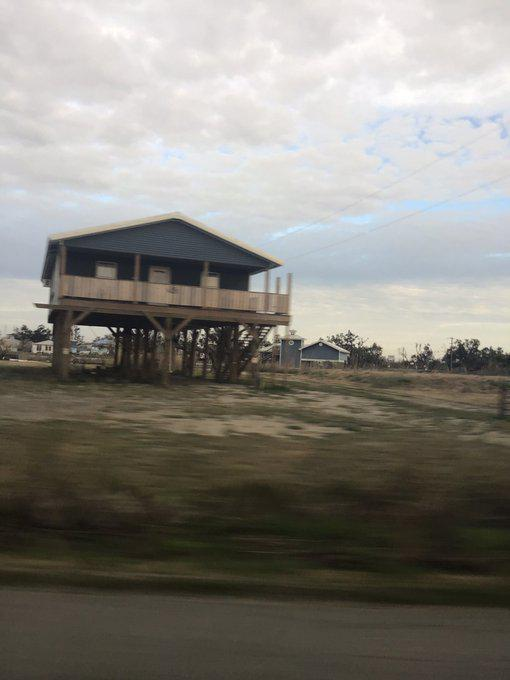affected: (43, 200, 298, 389)
